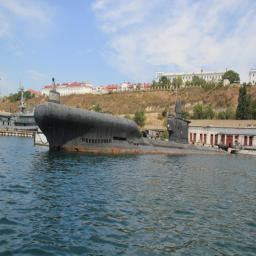submarine: (33, 90, 226, 157)
